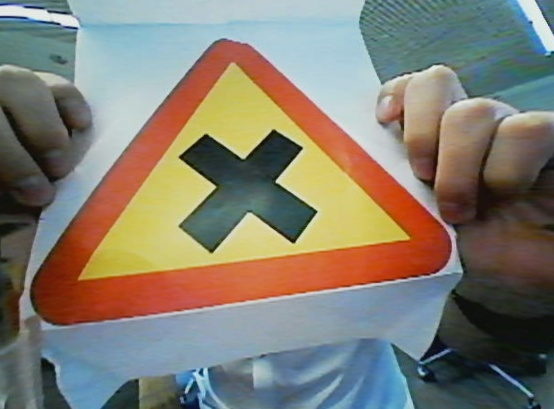junction: (21, 31, 454, 324)
